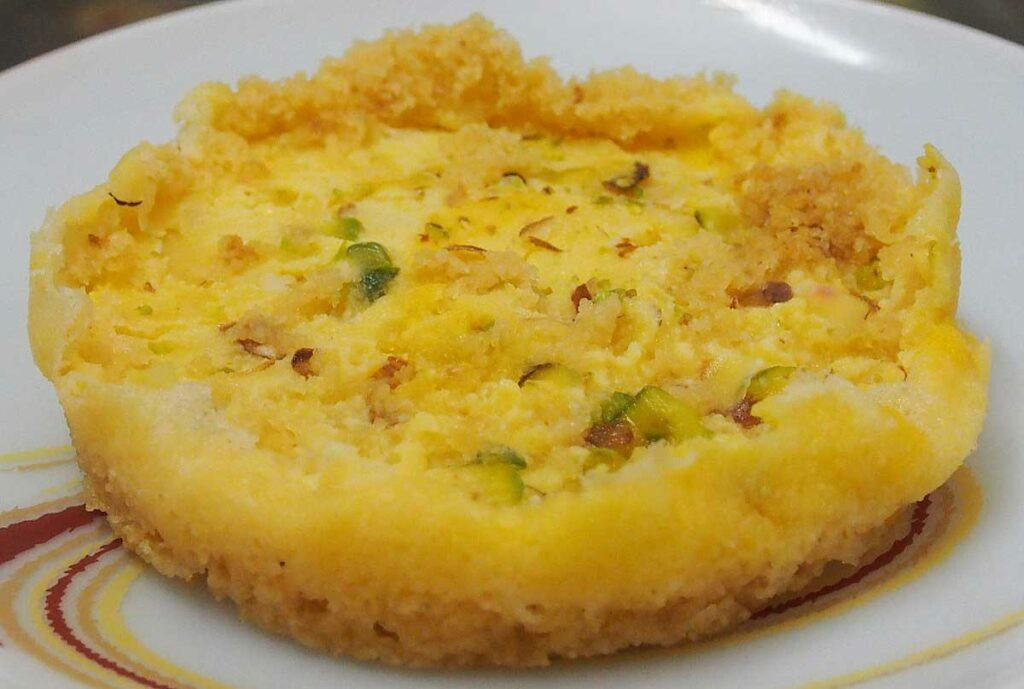Ghevar: (28, 12, 997, 672)
